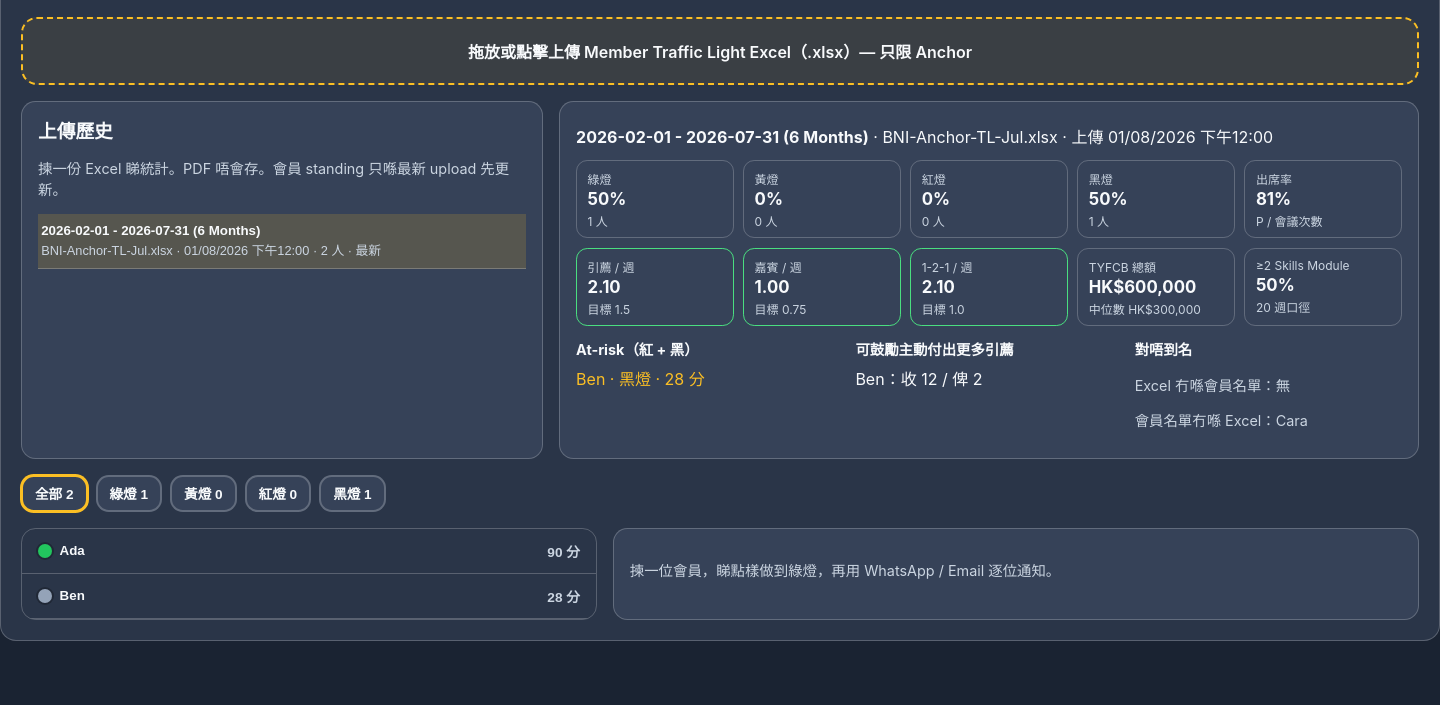
Test: TrafficLightPanel LT board › opens an at-risk member from the board list
The width and height of the screenshot is (1440, 705).
Click the button "Ben · 黑燈 · 28 分".
click(640, 378)  # box [576,366,705,390]
(page scrolled)
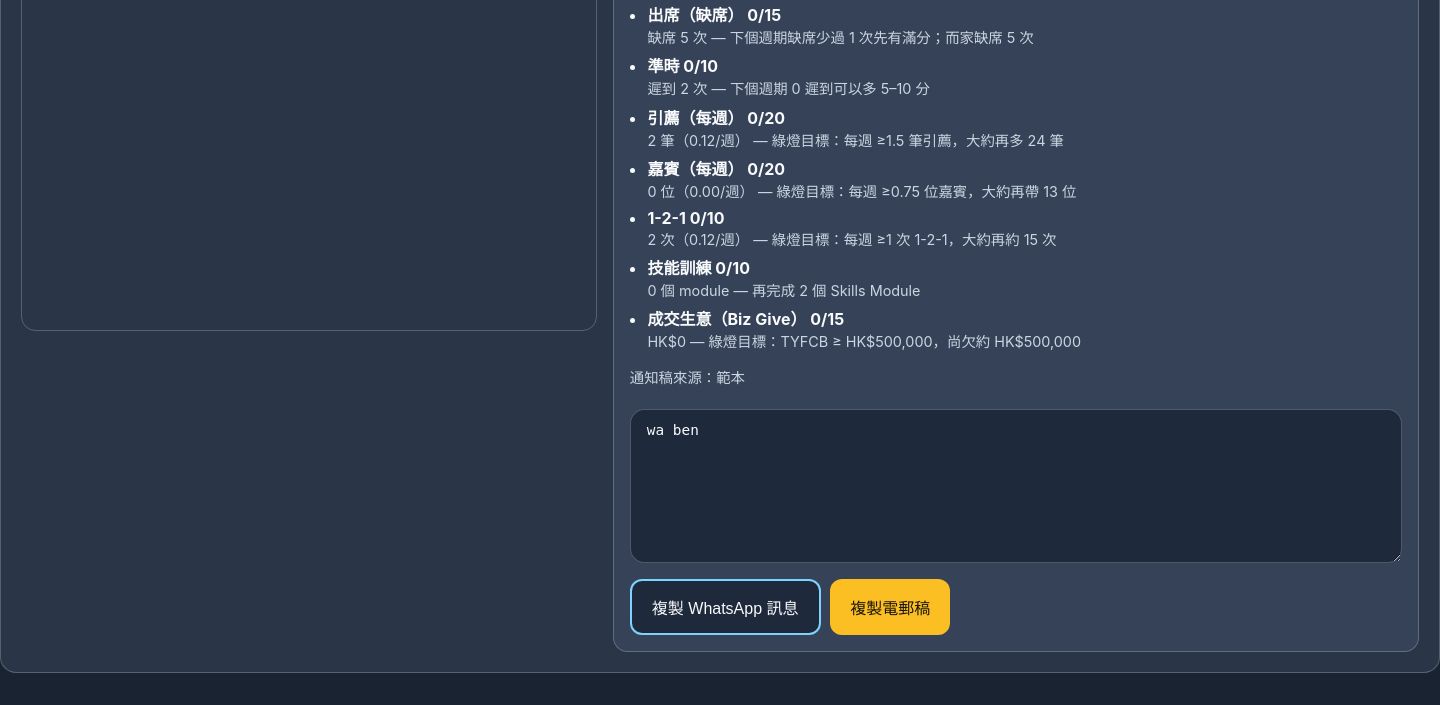
Check: the text box showing "wa ben" is shown, box [630,409,1402,563]
